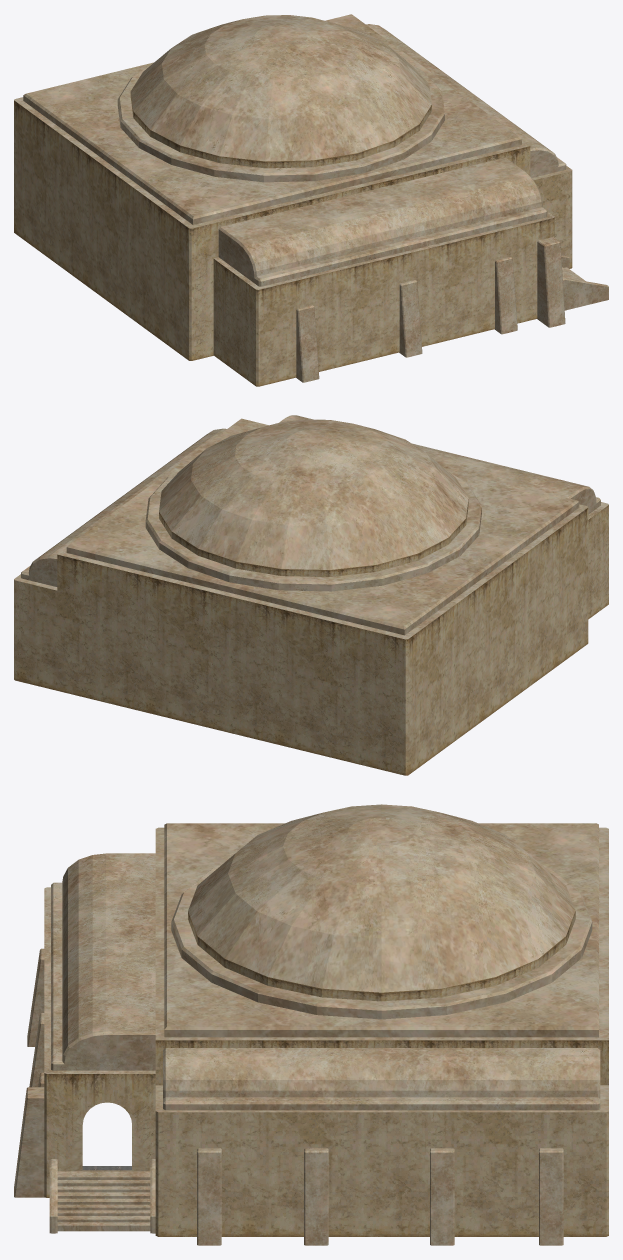
File: thm_tato_house_m_s01_fp1_r0_mesh_l1.fbx
3 renders of one model, top to bottom at view 1: azimuth 30°, elevation 25°; view 2: azimuth 150°, elevation 25°; view 3: azimuth 270°, elevation 25°, orthographic. The views are drawn at different scales.
Visible parts, largest first — view 1: mesh_node; view 2: mesh_node; view 3: mesh_node.
Boxes of the visible parts, box(x1,y1,x2,y2) form: mesh_node: box(14, 14, 608, 386); mesh_node: box(14, 415, 608, 775); mesh_node: box(14, 804, 608, 1245).
Size of the model in its own units: 23.78 by 12.49 by 24.09.
